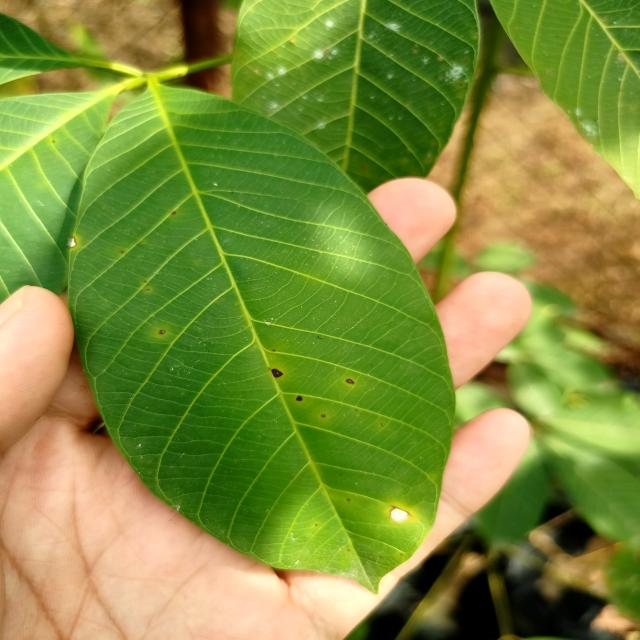Colletotrichum: (389, 508, 408, 520), (271, 369, 283, 378), (345, 379, 354, 384), (296, 396, 302, 401), (159, 330, 166, 334), (321, 414, 326, 418), (172, 212, 176, 215)
